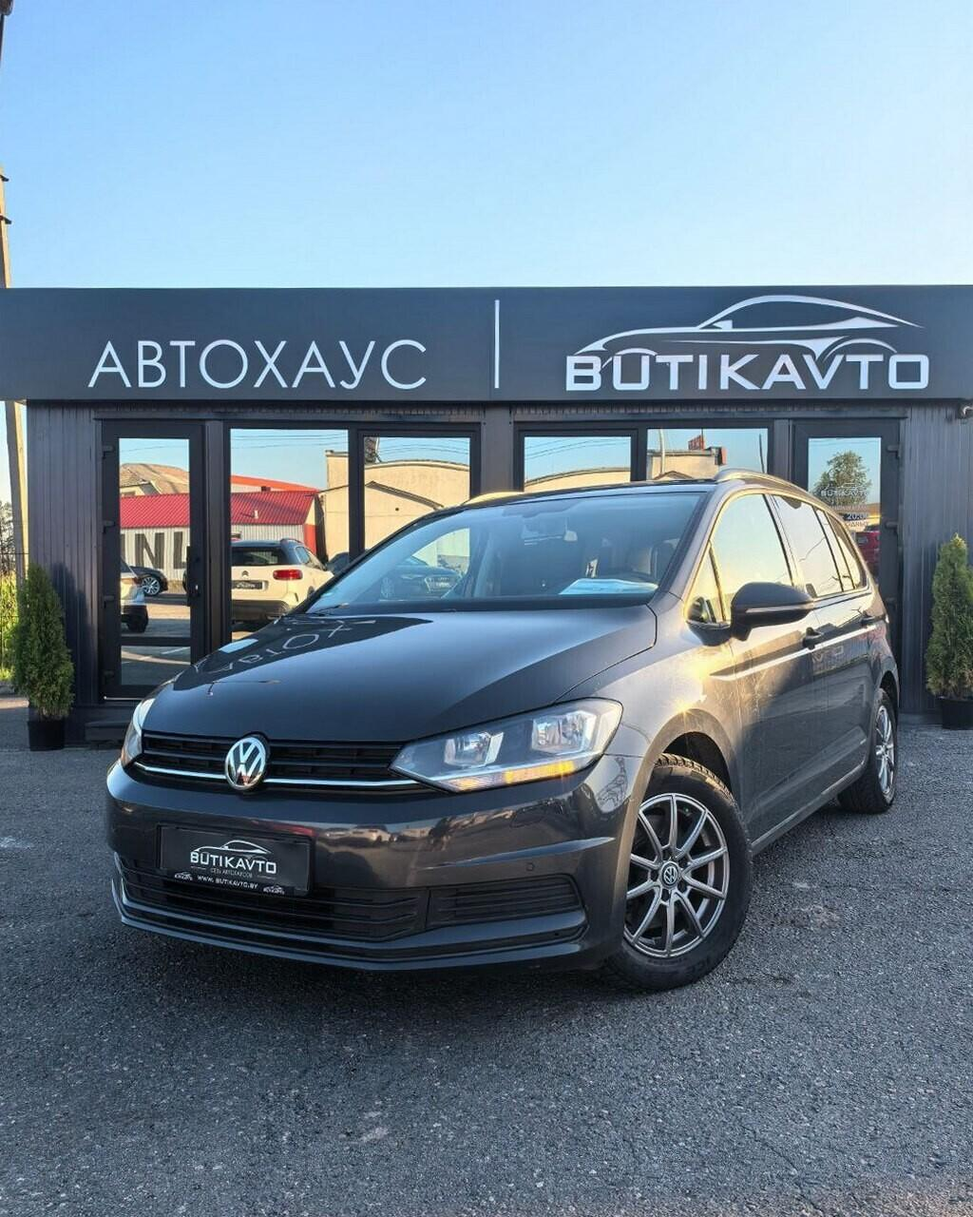Touran_2015: (89, 472, 901, 994)
